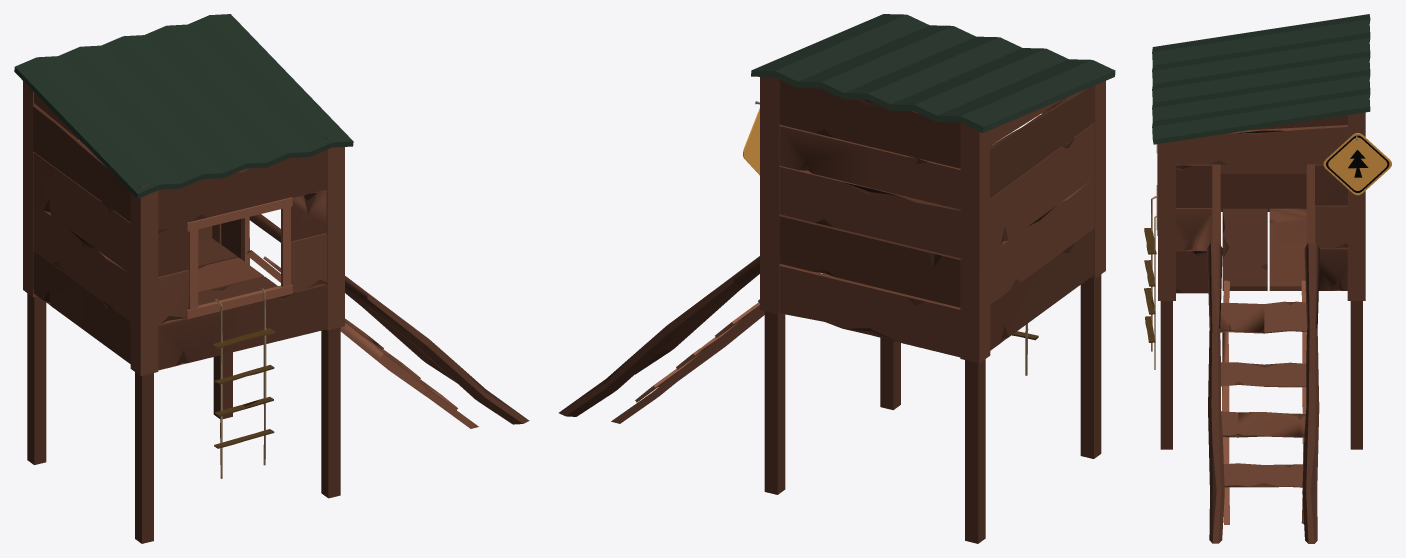
The model's file is TreeHouse.gltf.
The picture shows the model from 3 angles, left to right: view 1: azimuth 30°, elevation 25°; view 2: azimuth 150°, elevation 25°; view 3: azimuth 270°, elevation 25°; orthographic projection. The views are drawn at different scales.
Parts seen in each view (by area): view 1: TreeHouse_01_glb; view 2: TreeHouse_01_glb; view 3: TreeHouse_01_glb.
Part boxes in pixels (left/top/right/bottom): TreeHouse_01_glb: left=14, top=14, right=529, bottom=543; TreeHouse_01_glb: left=559, top=14, right=1115, bottom=543; TreeHouse_01_glb: left=1144, top=14, right=1391, bottom=543.
Size of what is drawn, in the model's own units: 5.56 by 4.95 by 3.17.
Materials: 1 (1 with a texture image).
